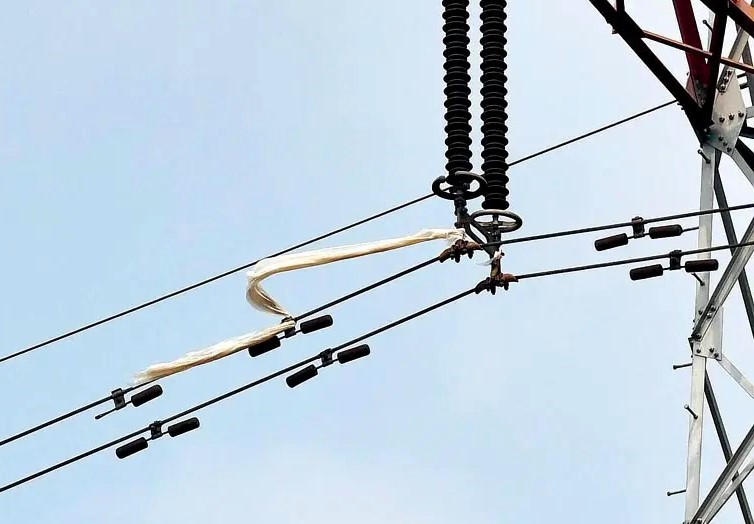wire foreign body: (152, 213, 467, 368)
